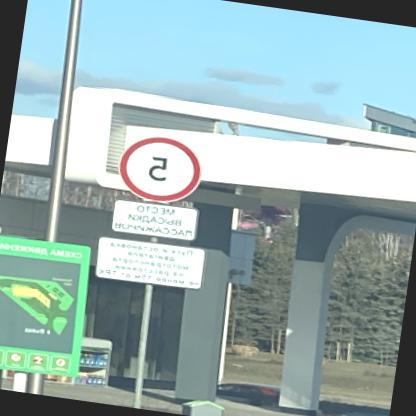speedlimit: (118, 130, 209, 206)
